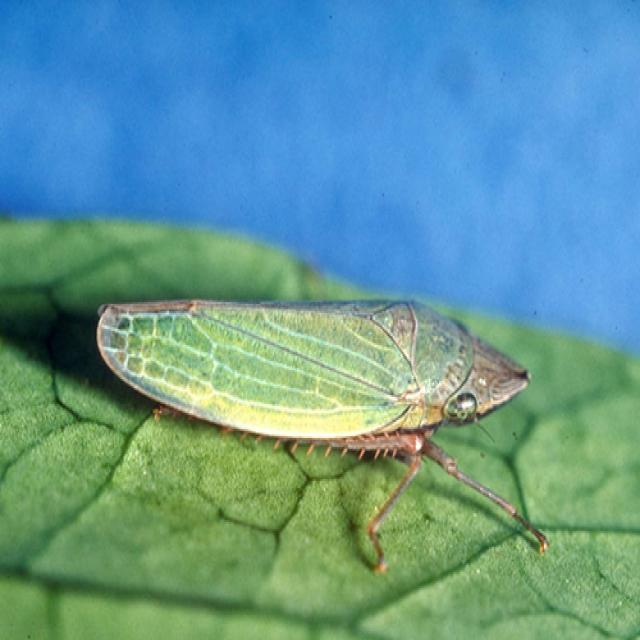Yechan: (71, 255, 553, 520)
